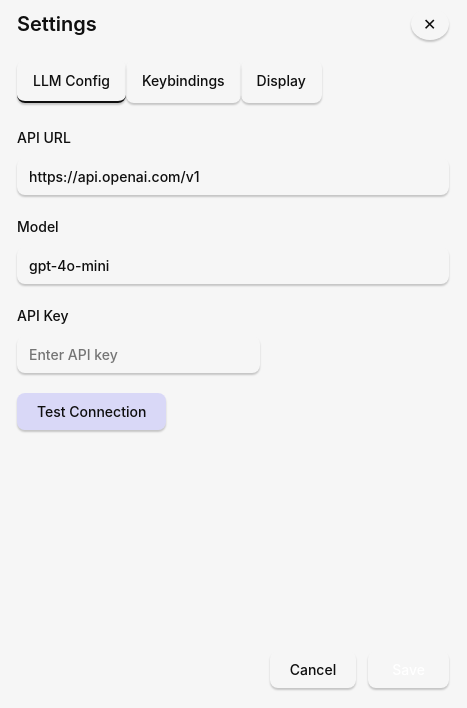
Test: SettingsPanel › Keybindings Tab › displays all keyboard shortcuts
Click the tab with test id "tab-keybindings".
click(183, 82)  # box [126,60,241,103]
(page scrolled)
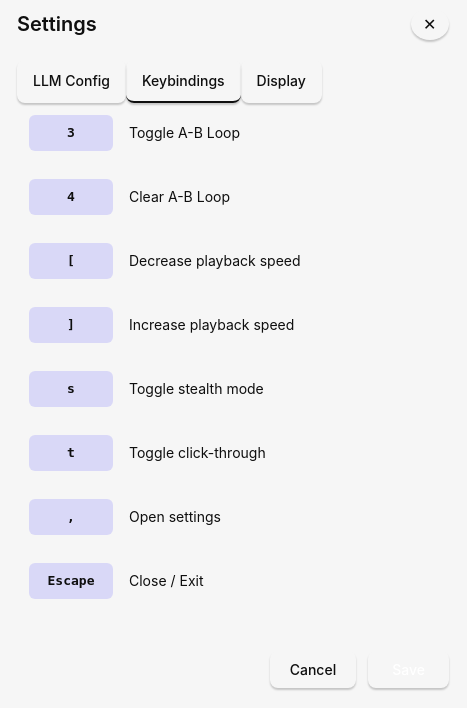
Result: the text "Toggle A-B Loop" is shown at [129,121,240,145]
Result: the text "Clear A-B Loop" is shown at [129,185,230,209]
Result: the text "Decrease playback speed" is shown at [129,249,301,273]
